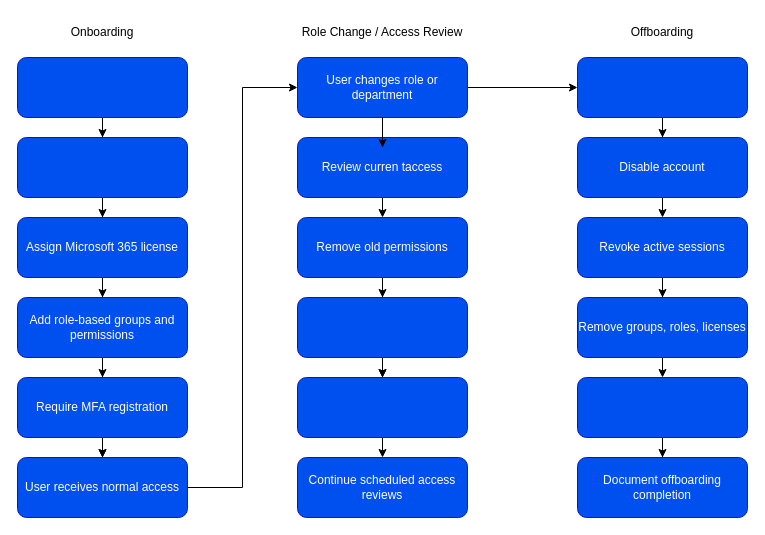
This 765x535 diagram has some shape labels left out. Each missing label, with the box of its shape:
Assign new role-based access: (296, 296, 468, 358)
Convert or preserve mailbox if approved: (576, 376, 748, 438)
Create named user account: (16, 136, 188, 198)
Document access changes: (296, 376, 468, 438)
New user request approved: (16, 56, 188, 118)
User leaves organization: (576, 56, 748, 118)
